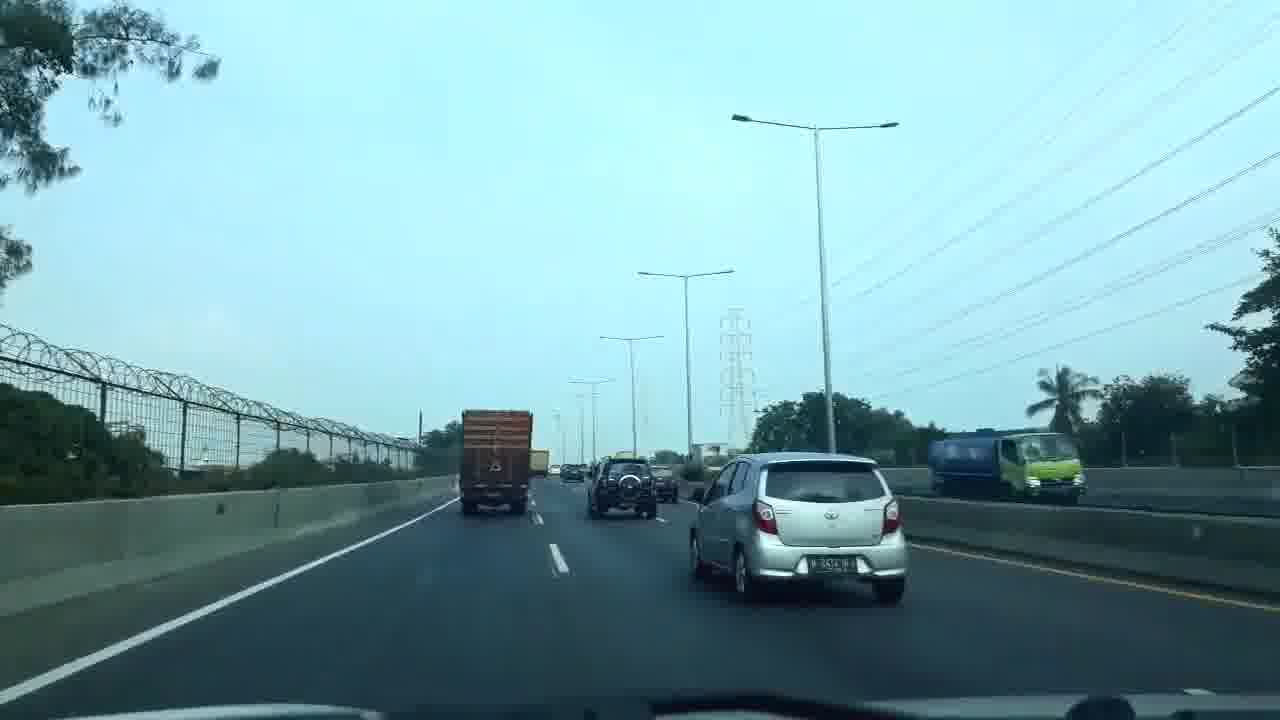plate_positive: (807, 556, 858, 576)
